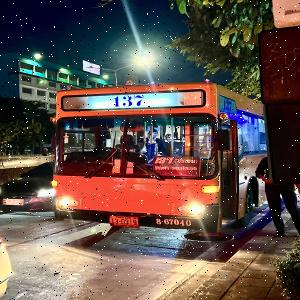BMTA-bus: (50, 82, 268, 234)
Bus Line Number: (105, 94, 153, 109)
Bus Side Number: (155, 216, 196, 229)
Destination Sign: (152, 154, 200, 179)
